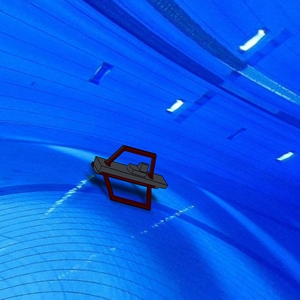submarine: (86, 139, 172, 217)
